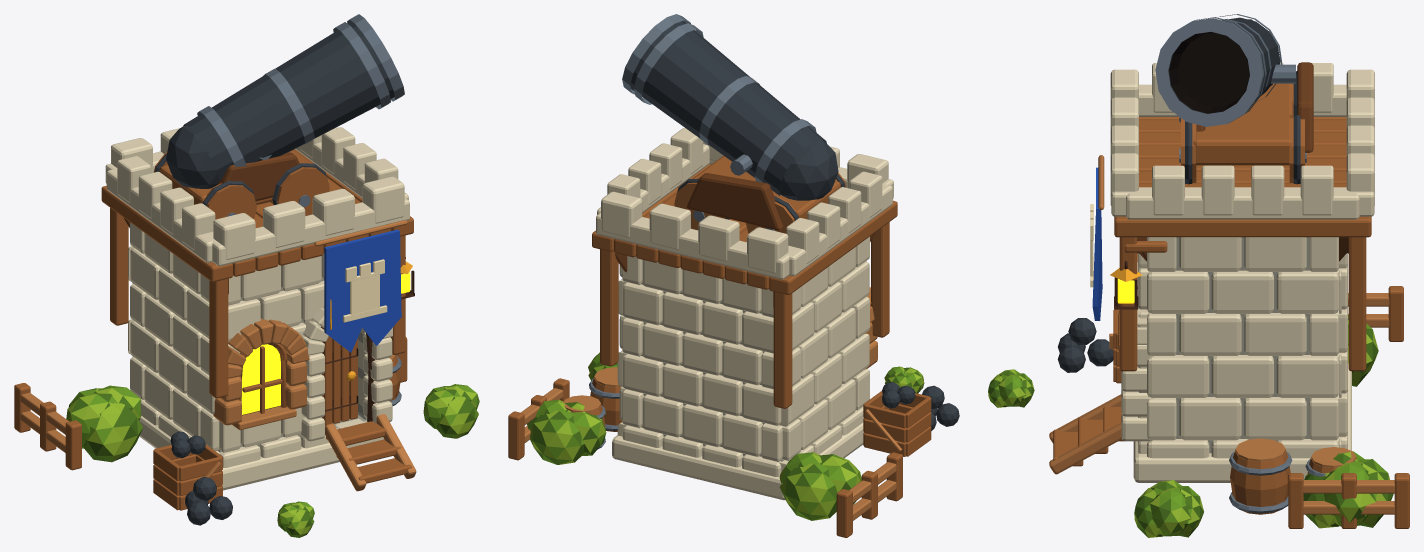
Rendered from bombarding_tower.glb.
The picture shows the model from 3 angles, left to right: view 1: azimuth 30°, elevation 25°; view 2: azimuth 150°, elevation 25°; view 3: azimuth 270°, elevation 25°; orthographic projection. The views are drawn at different scales.
Parts seen in each view (by area): view 1: Iron cannon barrel, Cloth heraldic banner, Projecting tower foundation, Battlement base course, Leaf cluster.004, Platform upright, Cannon breech, Gun platform plank, Platform upright.001, Warm arched window, Gun carriage cheek, Battlement base course.001 (+70 smaller); view 2: Iron cannon barrel, Projecting tower foundation, Gun carriage cheek.001, Battlement base course.002, Cannon breech, Leaf cluster.007, Platform upright.001, Leaf cluster.011, Platform upright.003, Gun platform plank, Platform upright, Battlement base course.001 (+71 smaller); view 3: Gun carriage bed, Gun platform plank.008, Battlement base course.003, Recessed bore bottom, Thick annular cannon muzzle, Projecting tower foundation, Dressed limestone.032, Dressed limestone.033, Dressed limestone.082, Dressed limestone.081, Dressed limestone.083, Dressed limestone.066 (+70 smaller).
Boxes of the visible parts, x1,y1,x2,y2 form: Iron cannon barrel: (183, 21, 394, 180); Cloth heraldic banner: (324, 229, 401, 352); Projecting tower foundation: (139, 416, 383, 490); Battlement base course: (211, 197, 409, 266); Leaf cluster.004: (84, 403, 142, 462); Platform upright: (209, 263, 228, 398); Cannon breech: (166, 125, 219, 188); Gun platform plank: (101, 185, 232, 282); Platform upright.001: (110, 208, 128, 325); Warm arched window: (241, 344, 280, 414); Gun carriage cheek: (217, 152, 299, 201); Battlement base course.001: (106, 168, 213, 262); Iron cannon barrel: (630, 21, 826, 195); Projecting tower foundation: (612, 423, 863, 500); Gun carriage cheek.001: (687, 173, 783, 230); Battlement base course.002: (596, 212, 789, 279); Cannon breech: (779, 139, 838, 200); Leaf cluster.007: (779, 463, 837, 520); Platform upright.001: (773, 276, 792, 408); Leaf cluster.011: (530, 410, 584, 464); Platform upright.003: (600, 249, 618, 366); Gun platform plank: (769, 200, 897, 294); Platform upright: (871, 222, 889, 337); Battlement base course.001: (787, 184, 892, 276); Gun carriage bed: (1193, 83, 1293, 165); Gun platform plank.008: (1114, 216, 1371, 237); Battlement base course.003: (1126, 187, 1359, 219); Recessed bore bottom: (1178, 33, 1249, 107); Thick annular cannon muzzle: (1155, 19, 1262, 126); Projecting tower foundation: (1133, 363, 1351, 482); Dressed limestone.032: (1179, 397, 1241, 440); Dressed limestone.033: (1244, 397, 1306, 440); Dressed limestone.082: (1211, 270, 1273, 313); Dressed limestone.081: (1147, 270, 1209, 313); Dressed limestone.083: (1276, 270, 1338, 313); Dressed limestone.066: (1179, 313, 1241, 355).
Bounding box in the file's own units: 4.09 × 4.53 × 3.58.
